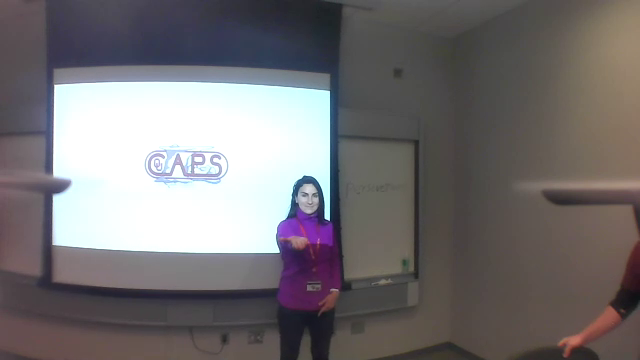land: (273, 230, 312, 252)
